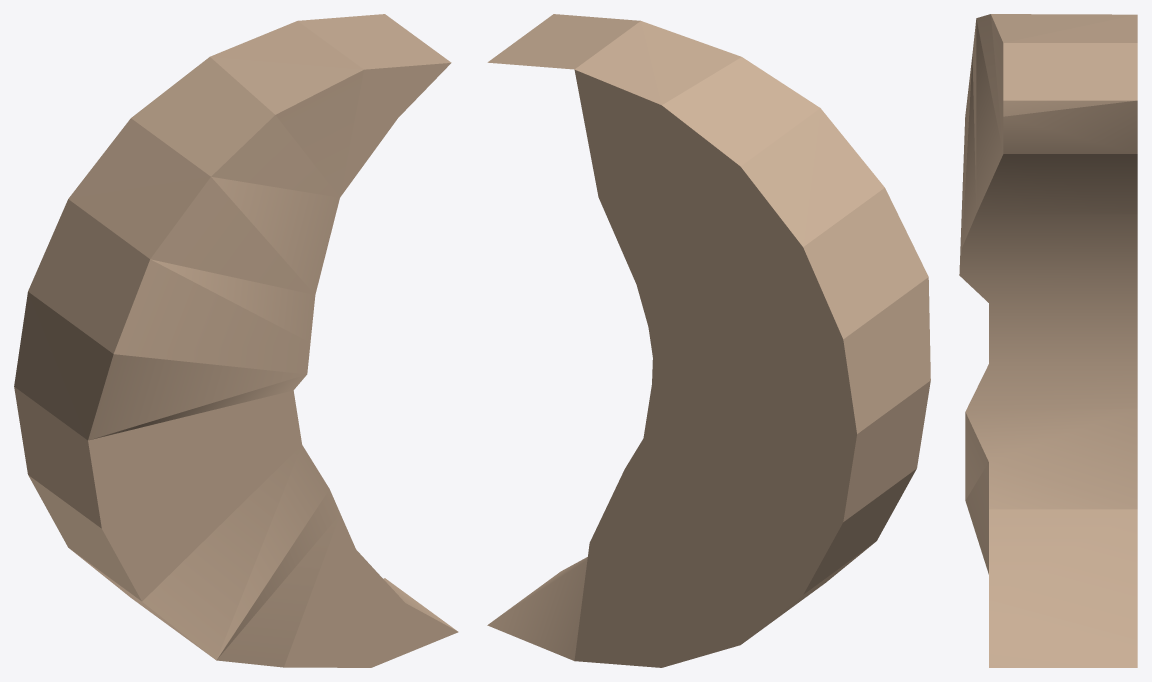
The model's file is Moon.fbx.
3 views of the same model, side by side, from view 1: azimuth 30°, elevation 25°; view 2: azimuth 150°, elevation 25°; view 3: azimuth 270°, elevation 25° (orthographic).
Parts seen in each view (by area): view 1: polySurface59; view 2: polySurface59; view 3: polySurface59.
Part boxes in pixels (<box>): polySurface59: <box>14,14,458,667</box>; polySurface59: <box>487,14,930,667</box>; polySurface59: <box>959,14,1137,667</box>.
Size of the model in its own units: 1.31 by 2 by 0.5411.
